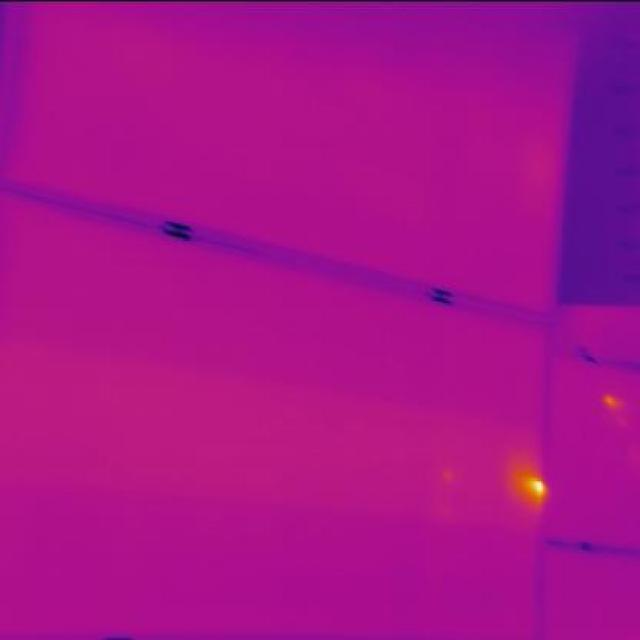hotspot: (517, 467, 554, 507)
